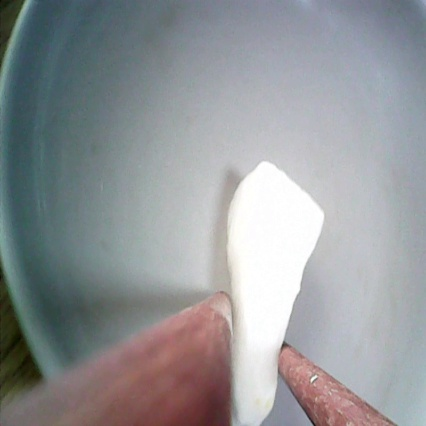white_chinese-yam: (224, 159, 332, 426)
